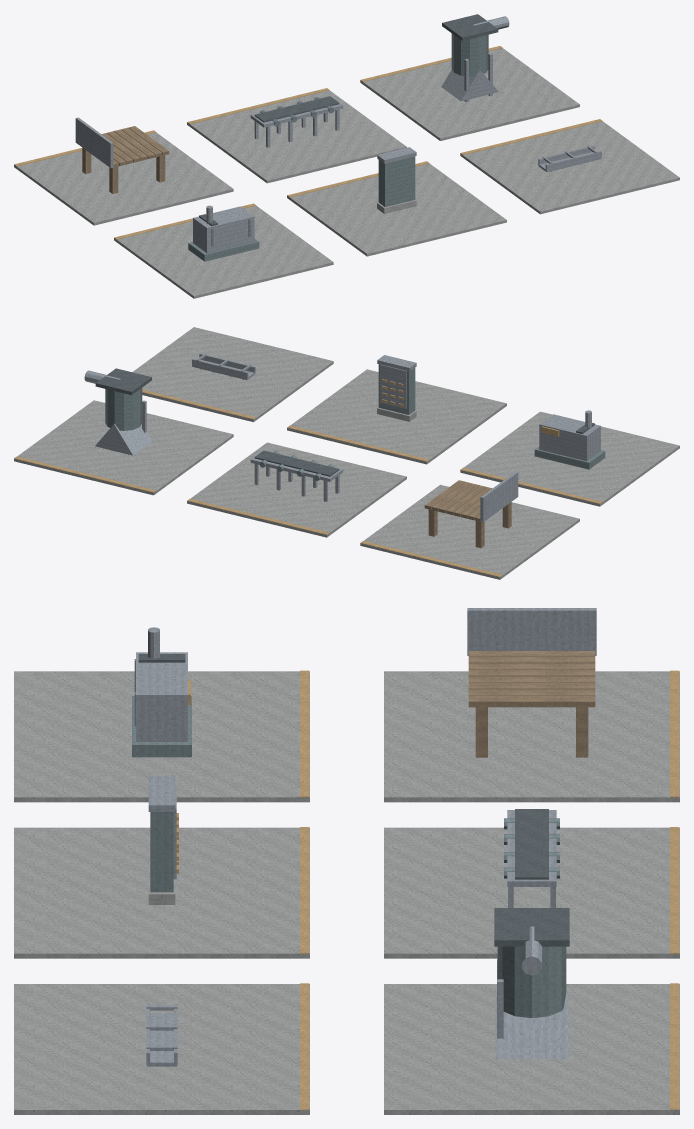
Rendered from level_blockout_kit_wld_13_p01.glb.
3 renders of one model, top to bottom at view 1: azimuth 30°, elevation 25°; view 2: azimuth 150°, elevation 25°; view 3: azimuth 270°, elevation 25°, orthographic. The views are drawn at different scales.
Visible parts, largest first — view 1: level_blockout_kit_wld_13_p01; view 2: level_blockout_kit_wld_13_p01; view 3: level_blockout_kit_wld_13_p01.
Part boxes in pixels (x1=…): level_blockout_kit_wld_13_p01: x1=14, y1=14, x2=679, y2=298; level_blockout_kit_wld_13_p01: x1=14, y1=327, x2=679, y2=579; level_blockout_kit_wld_13_p01: x1=14, y1=608, x2=679, y2=1114.
Size of the model in its own units: 19.65 by 2.68 by 12.6.
6 materials, 6 textured.
